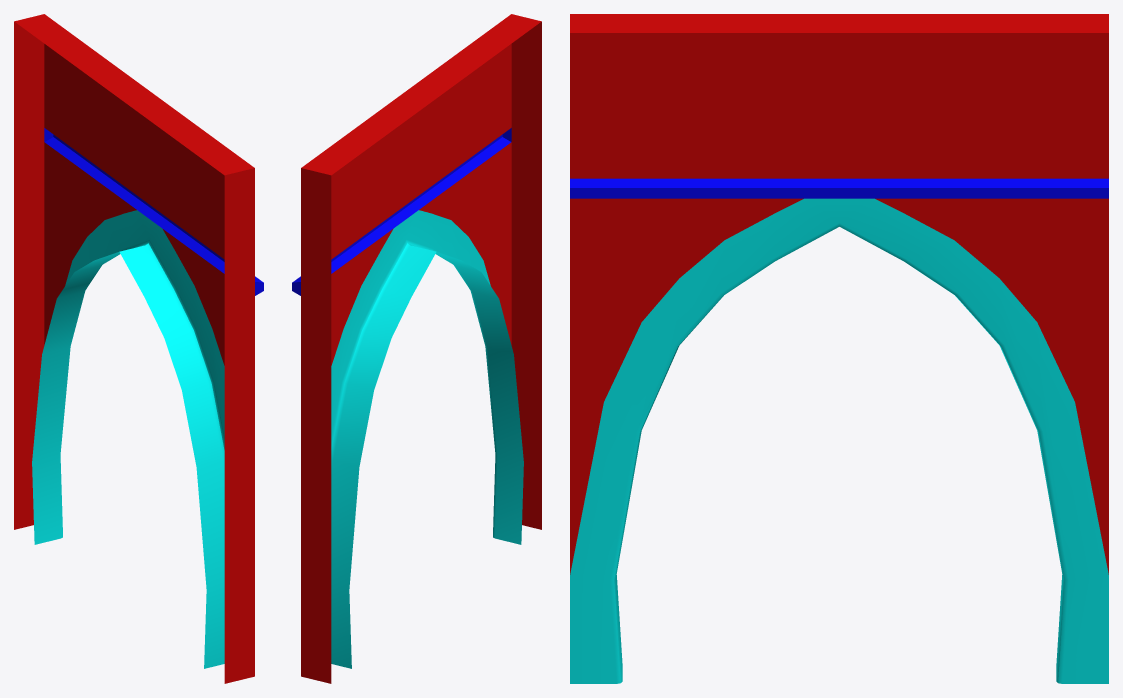
The model's file is Mdl_WallC_FaceA.fbx.
The picture shows the model from 3 angles, left to right: view 1: azimuth 30°, elevation 25°; view 2: azimuth 150°, elevation 25°; view 3: azimuth 270°, elevation 25°; orthographic projection. The views are drawn at different scales.
Parts seen in each view (by area): view 1: Mdl_WallC_FaceA; view 2: Mdl_WallC_FaceA; view 3: Mdl_WallC_FaceA.
Boxes of the visible parts, bbox=[...] form: Mdl_WallC_FaceA: bbox=[14, 14, 263, 683]; Mdl_WallC_FaceA: bbox=[292, 14, 541, 683]; Mdl_WallC_FaceA: bbox=[570, 14, 1108, 683].
Bounding box in the file's own units: 32.39 × 300 × 400.
